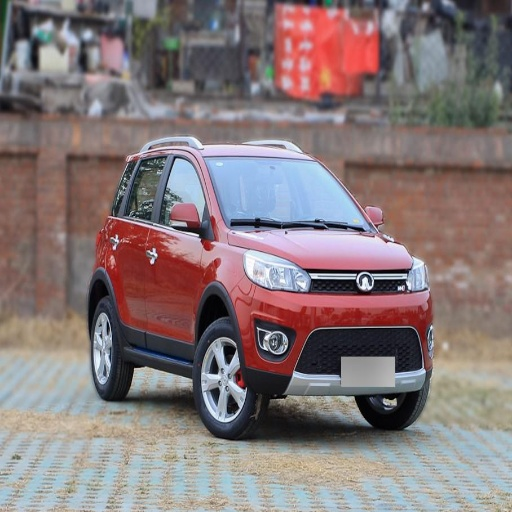front_bumper: (234, 270, 431, 397)
front_right_door: (147, 148, 211, 358)
front_right_light: (245, 252, 313, 293)
hood: (229, 231, 412, 270)
